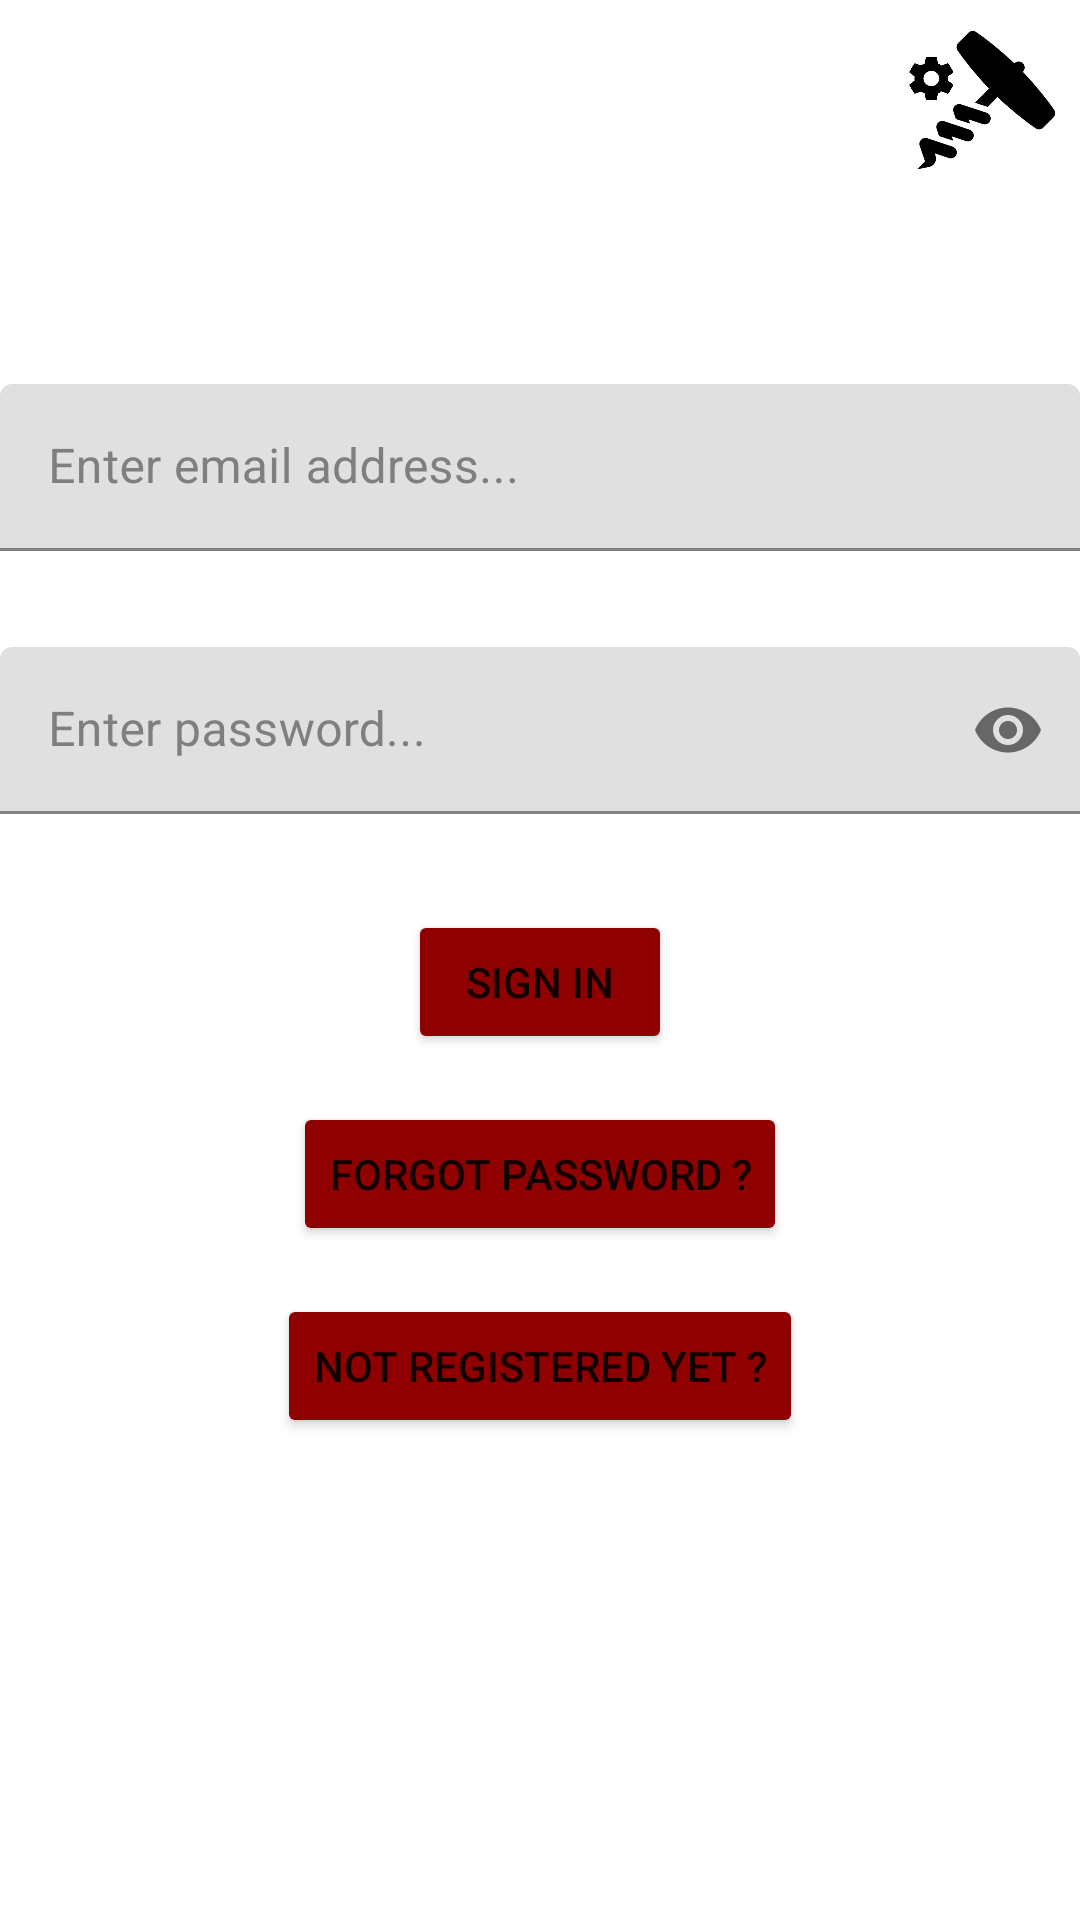

Icons on this 1080px×1920px Android screen, each with the point to tap as (x=x, y=y):
parameter: (x=982, y=100)
